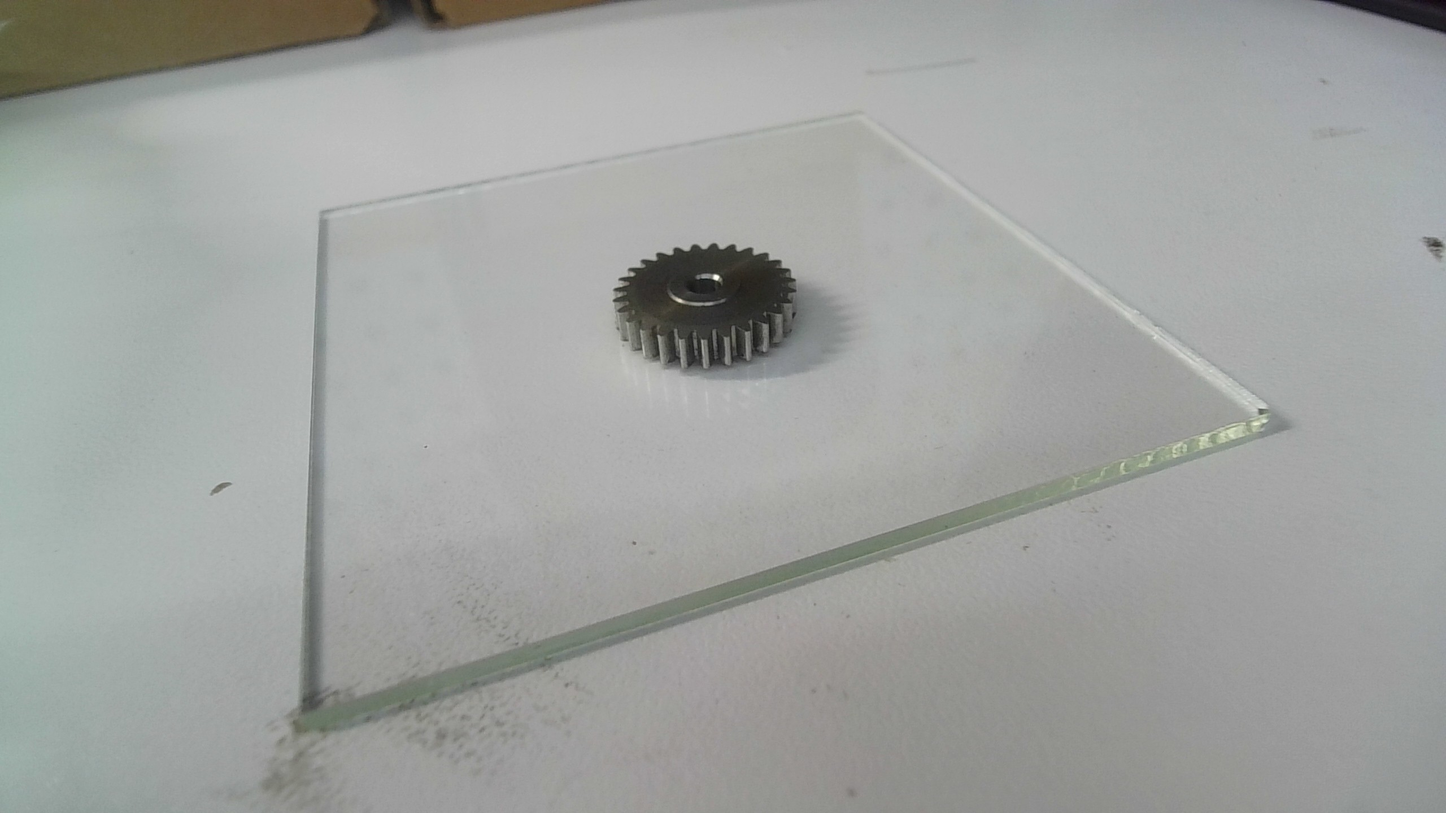gear: (610, 239, 797, 374)
